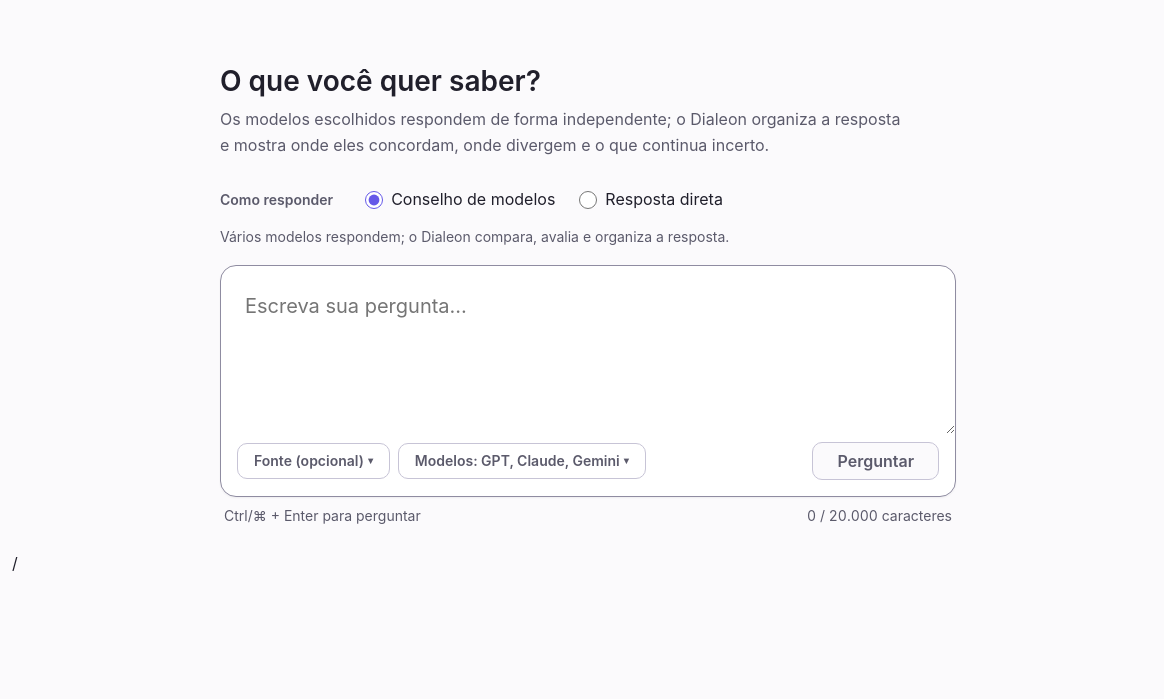
Test: Home › pré-seleciona todos os providers retornados por GET /providers após discovery bem-sucedido
Click the button "Modelos: GPT, Claude, Gemini ▾". click: [522, 461]
box: x1=398 y1=443 x2=646 y2=479
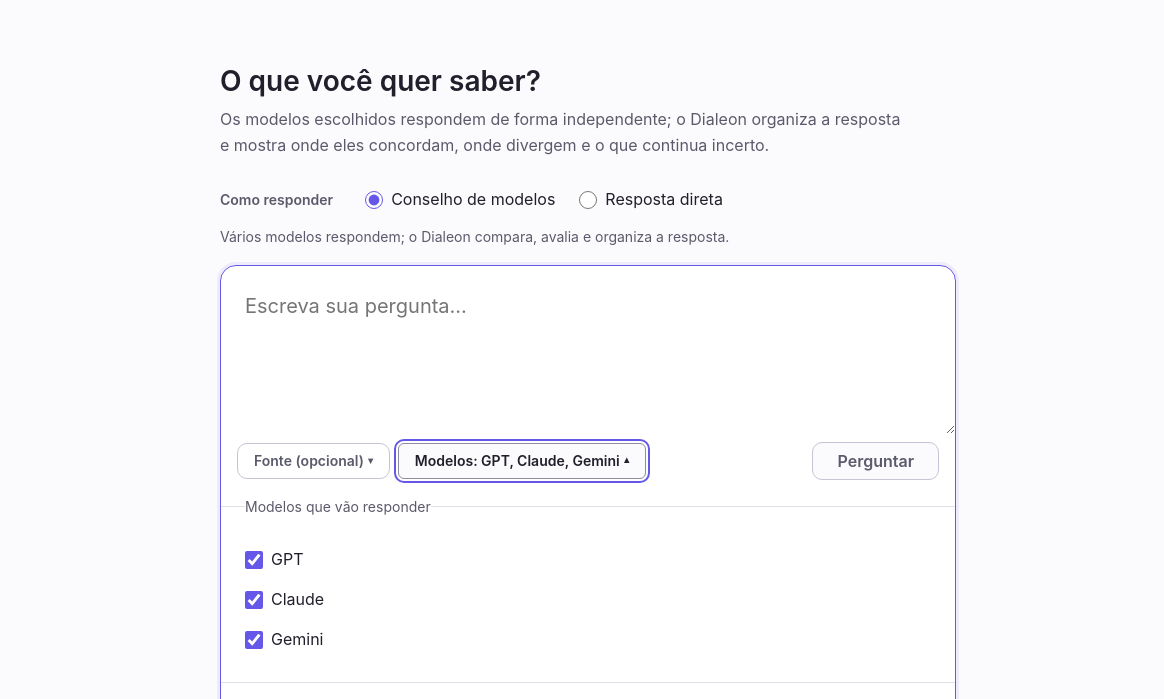
Now the checkbox labelled "GPT" is checked, box x1=245 y1=551 x2=263 y2=569
Now the checkbox labelled "Claude" is checked, box x1=245 y1=591 x2=263 y2=609
Now the checkbox labelled "Gemini" is checked, box x1=245 y1=631 x2=263 y2=649
